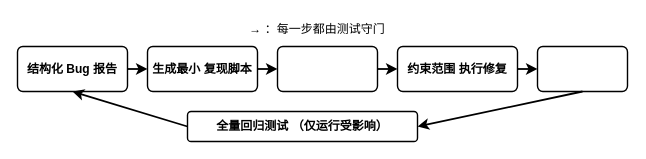
Some shapes in this 646 by 159 pixel diagram are drawn without their labels. Here are the shapes that lost their labels. From the top down, the centre of each, then its label:
At point (327, 68): "复现测试 FAIL".
At point (582, 68): "复现测试 PASS".
